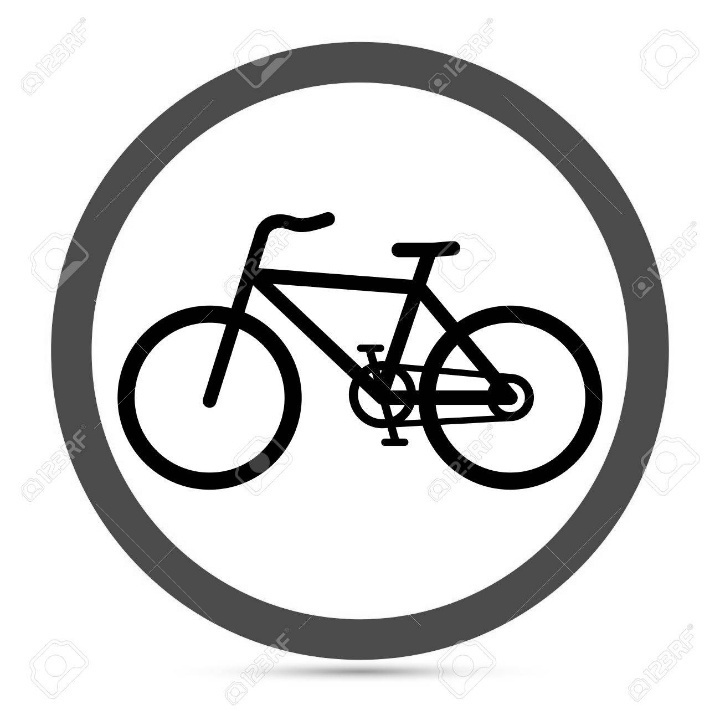bicycle: (109, 193, 615, 513)
